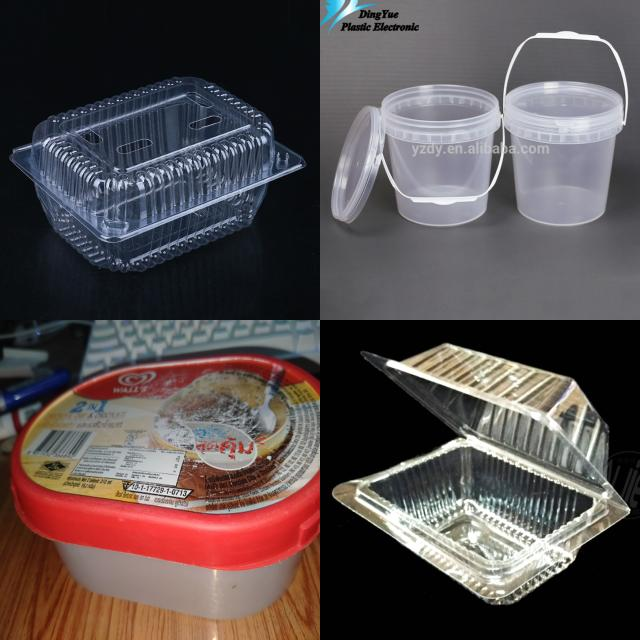Single-Use-Plastic: (11, 355, 318, 618), (332, 344, 629, 605), (10, 78, 305, 271), (504, 81, 624, 225), (380, 85, 501, 226), (331, 106, 385, 223)
